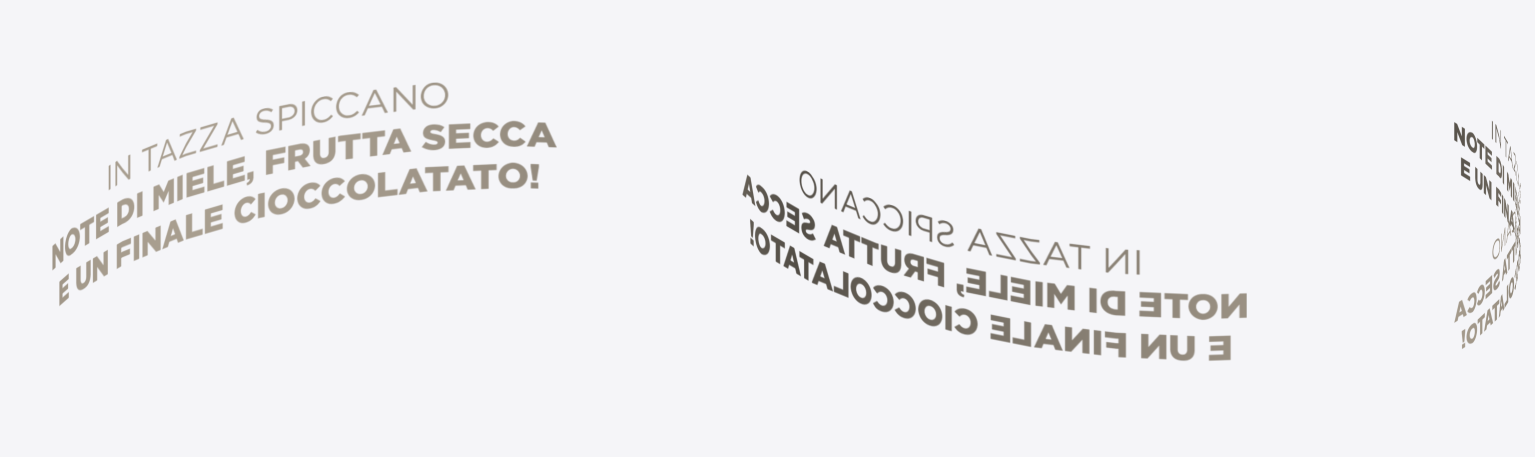
The model's file is altecowrongtext.glb.
The picture shows the model from 3 angles, left to right: view 1: azimuth 30°, elevation 25°; view 2: azimuth 150°, elevation 25°; view 3: azimuth 270°, elevation 25°; orthographic projection. The views are drawn at different scales.
Visible parts, largest first — view 1: alteco_text.001; view 2: alteco_text.001; view 3: alteco_text.001.
Part boxes in pixels (left/top/right/bottom): alteco_text.001: left=52, top=82, right=556, bottom=305; alteco_text.001: left=742, top=170, right=1246, bottom=360; alteco_text.001: left=1454, top=121, right=1520, bottom=348.
Size of the model in its own units: 1.53 by 0.5648 by 0.3409.
1 material, 1 textured.
